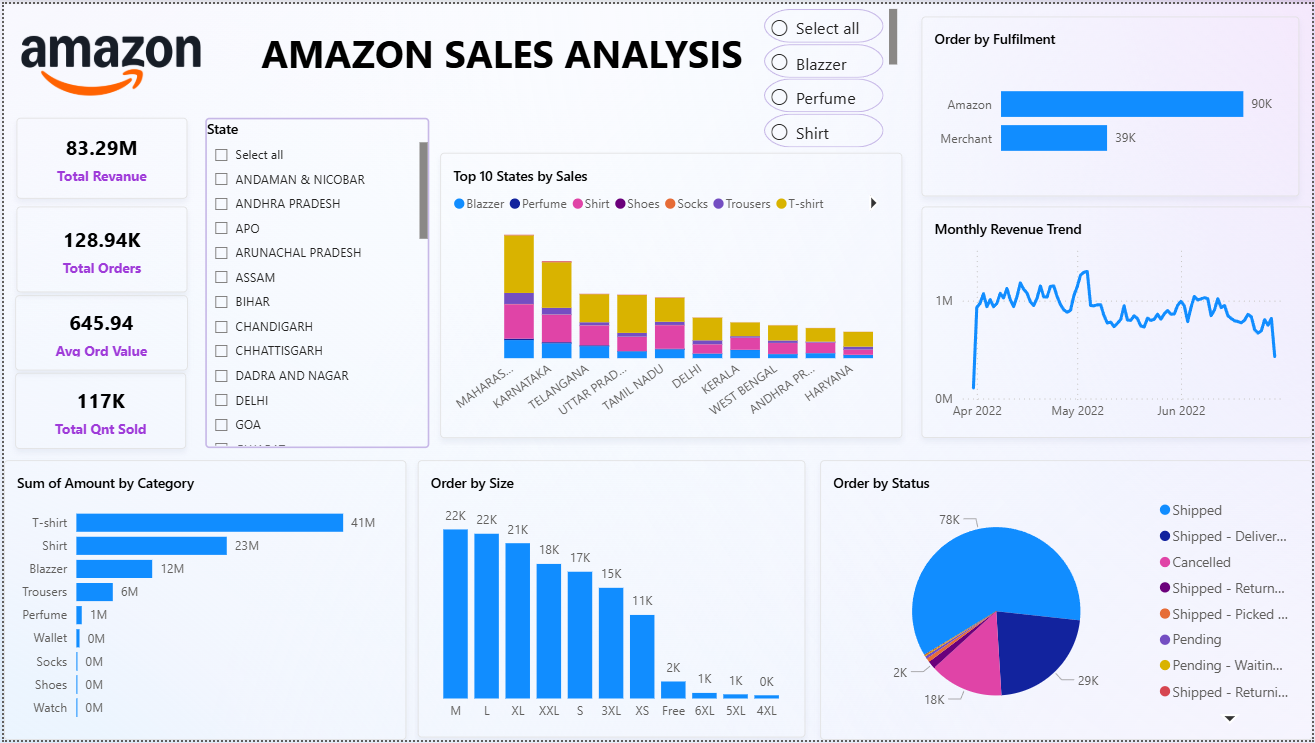

The dashboard page shown, as its layout file describes it:
{"tool":"powerbi","page":{"name":"Page 1","canvas":[1280,720],"ordinal":0},"visuals":[{"type":"card","fields":{"Values":["Sum(clean_amazon_sales.Amount)"]},"box":[12.2,111.3,167.5,79.5],"z":0},{"type":"card","fields":{"Values":["CountNonNull(clean_amazon_sales.Order ID)"]},"box":[12.2,198.1,167.5,84.4],"z":1000},{"type":"lineChart","title":"Monthly Revenue Trend","fields":{"Category":["clean_amazon_sales.Date"],"Y":["Sum(clean_amazon_sales.Amount)"]},"box":[897.6,198.1,382.7,226.2],"z":2000},{"type":"pieChart","title":"Order  by Status","fields":{"Category":["clean_amazon_sales.Status"],"Y":["CountNonNull(clean_amazon_sales.Order ID)"]},"box":[798.2,446.1,481.8,273.7],"z":3000},{"type":"lineStackedColumnComboChart","title":"Top 10 States by Sales","fields":{"Category":["clean_amazon_sales.ship-state"],"Y":["Sum(clean_amazon_sales.Amount)"],"Series":["clean_amazon_sales.Category"]},"box":[426.2,145.4,451.8,279.4],"z":4000},{"type":"clusteredColumnChart","title":" Order  by Size","fields":{"Category":["clean_amazon_sales.Size"],"Y":["CountNonNull(clean_amazon_sales.Order ID)"]},"box":[404.8,446.3,379.1,271.5],"z":5000},{"type":"clusteredBarChart","title":"Order by Fulfilment","fields":{"Category":["clean_amazon_sales.Fulfilment"],"Y":["CountNonNull(clean_amazon_sales.Order ID)"]},"box":[897.6,12.2,369.3,176.1],"z":6000},{"type":"slicer","title":"State","fields":{"Values":["clean_amazon_sales.ship-state"]},"box":[196.7,111.2,219.5,323.6],"z":7000},{"type":"listSlicer","fields":{"Values":["clean_amazon_sales.Category"]},"box":[738.6,0,140.6,145.5],"z":8000},{"type":"card","fields":{"Values":["clean_amazon_sales.Average_order_value"]},"box":[11,284.9,168.8,73.4],"z":9000},{"type":"card","fields":{"Values":["Sum(clean_amazon_sales.Qty)"]},"box":[11,360.7,167.5,74.6],"z":10000},{"type":"clusteredBarChart","fields":{"Category":["clean_amazon_sales.Category"],"Y":["Sum(clean_amazon_sales.Amount)"]},"box":[0,446.1,393.4,273.7],"z":11000},{"type":"textbox","box":[178.5,6.1,577.2,78.3],"z":12000},{"type":"image","box":[12.2,0,184.6,100.3],"z":13000}]}

Visuals, with their boxes in screenshot pixels (x1, y1, x2, y2), scaled from the page's 1280x720 canvas onto the 1315x743 screenshot:
card - Sum(clean_amazon_sales.Amount): 13,115,185,197
card - CountNonNull(clean_amazon_sales.Order ID): 13,204,185,292
"Monthly Revenue Trend" lineChart: 922,204,1314,438
"Order  by Status" pieChart: 820,460,1314,742
"Top 10 States by Sales" lineStackedColumnComboChart: 438,150,902,438
" Order  by Size" clusteredColumnChart: 416,461,805,741
"Order by Fulfilment" clusteredBarChart: 922,13,1302,194
"State" slicer: 202,115,428,449
listSlicer - clean_amazon_sales.Category: 759,0,903,150
card - clean_amazon_sales.Average_order_value: 11,294,185,370
card - Sum(clean_amazon_sales.Qty): 11,372,183,449
clusteredBarChart - clean_amazon_sales.Category x Sum(clean_amazon_sales.Amount): 0,460,404,742
textbox: 183,6,776,87
image: 13,0,202,104
